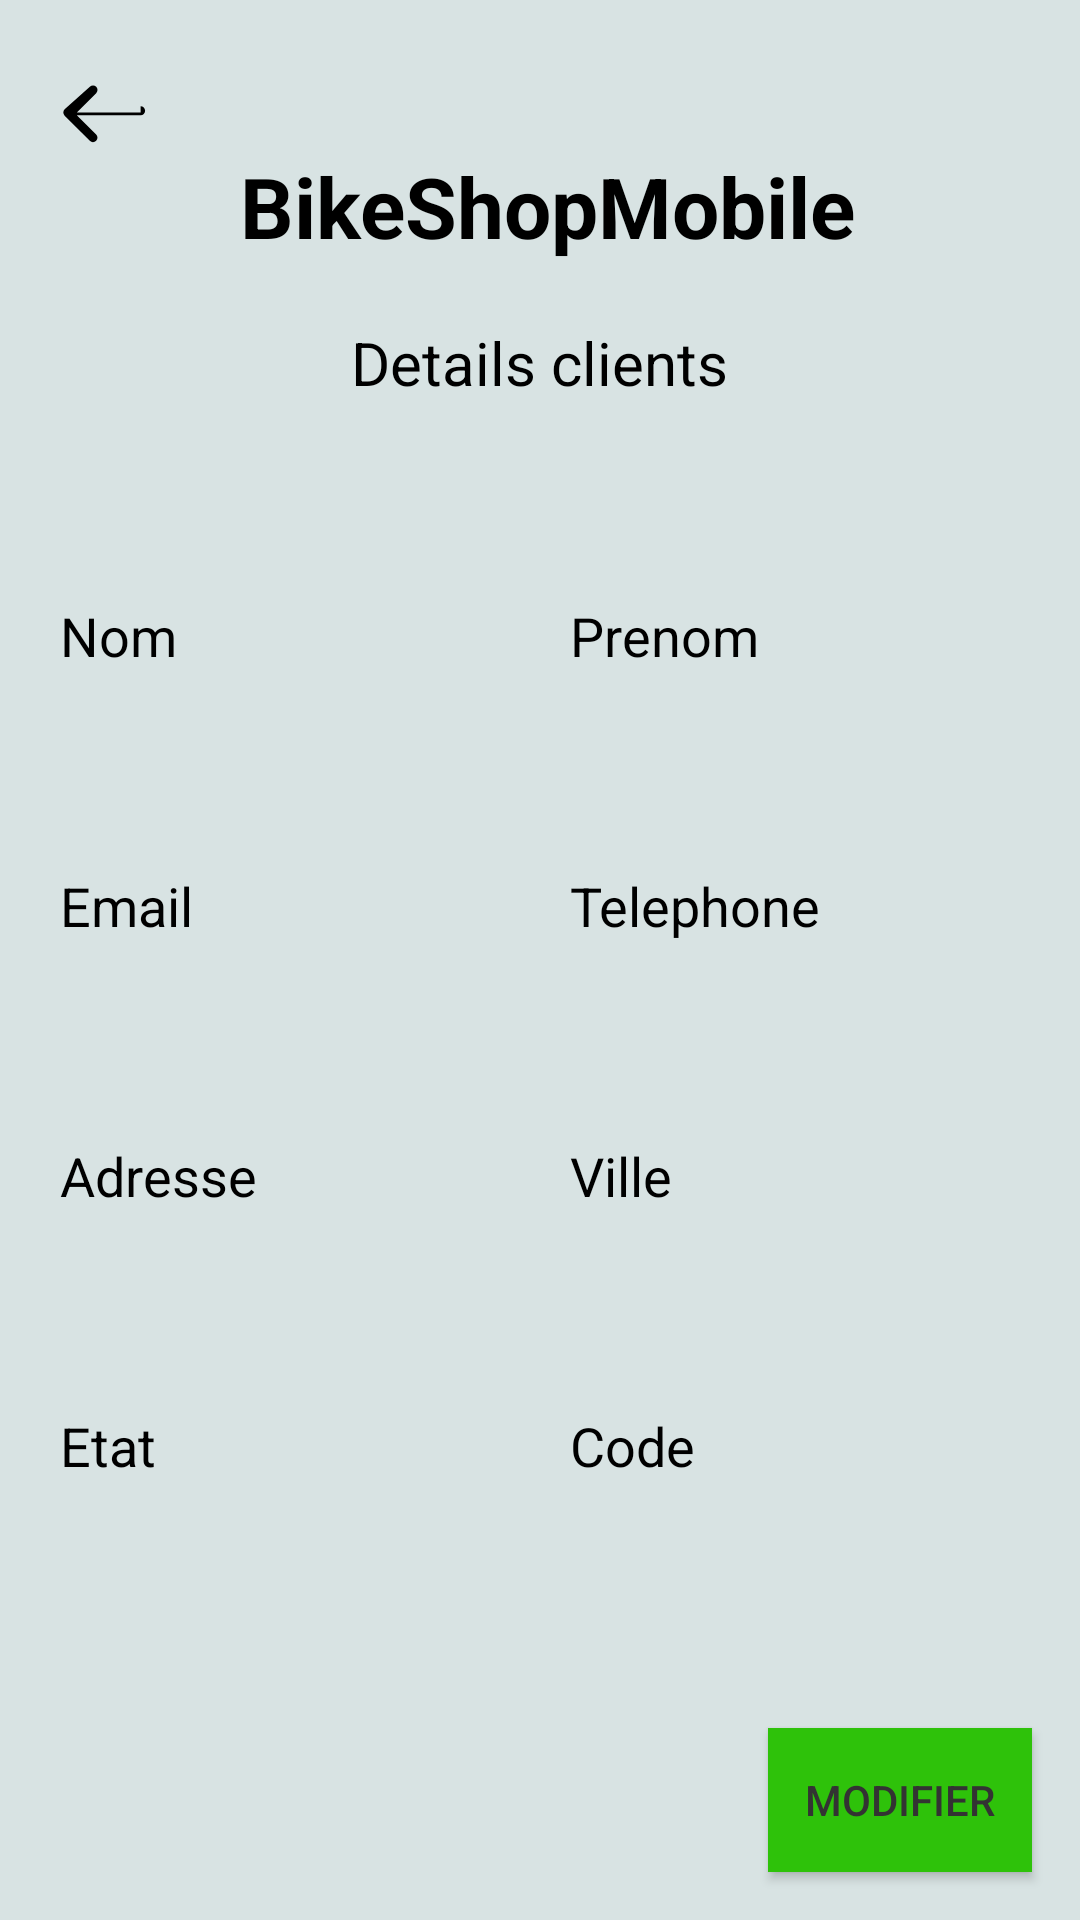

Where to tap for icons on this 1080px x 1920px app screen, as (x,y):
back: (104,114)
